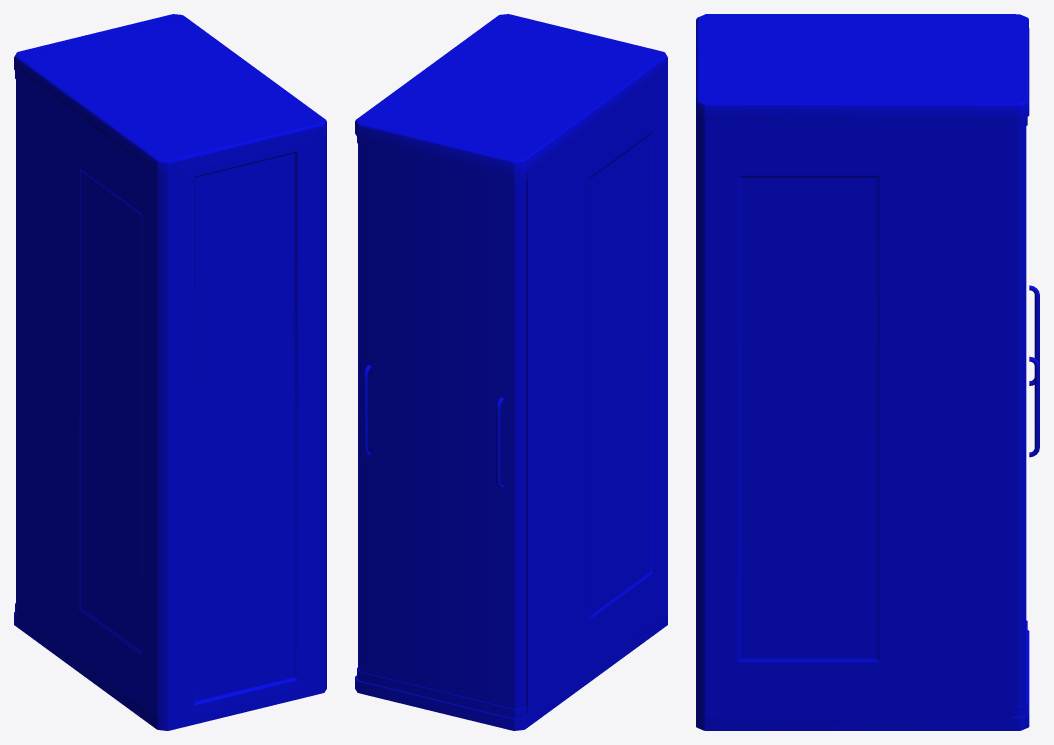
Rendered from ServerCabinet_Closed.FBX.
The picture shows the model from 3 angles, left to right: view 1: azimuth 30°, elevation 25°; view 2: azimuth 150°, elevation 25°; view 3: azimuth 270°, elevation 25°; orthographic projection. The views are drawn at different scales.
Visible parts, largest first — view 1: Server_Rack_Low; view 2: Server_Rack_Low; view 3: Server_Rack_Low.
Boxes of the visible parts, x1,y1,x2,y2 form: Server_Rack_Low: (14, 14, 326, 730); Server_Rack_Low: (355, 14, 667, 730); Server_Rack_Low: (696, 14, 1039, 730).
Size of the model in its own units: 22.84 by 73.13 by 36.37.
